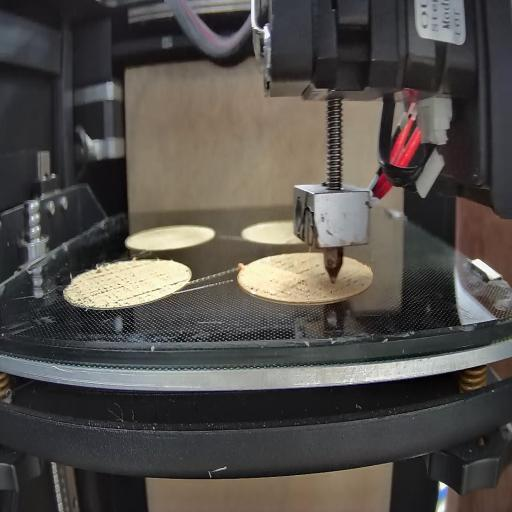under_extrusion: (66, 266, 164, 308), (274, 257, 326, 303), (327, 272, 364, 296), (246, 277, 271, 299), (170, 274, 189, 289)
